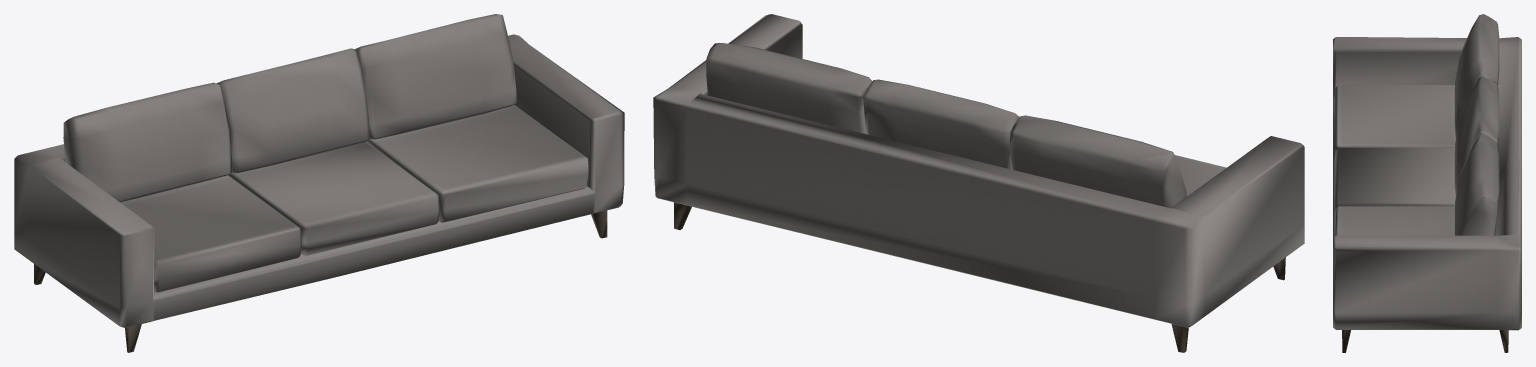
The model's file is sofa_modern.fbx.
The picture shows the model from 3 angles, left to right: view 1: azimuth 30°, elevation 25°; view 2: azimuth 150°, elevation 25°; view 3: azimuth 270°, elevation 25°; orthographic projection. The views are drawn at different scales.
Visible parts, largest first — view 1: Mesh_0; view 2: Mesh_0; view 3: Mesh_0.
Part boxes in pixels (x1,y1,x2,y2): Mesh_0: (14, 14, 624, 352); Mesh_0: (653, 14, 1304, 352); Mesh_0: (1333, 14, 1521, 352).
Bounding box in the file's own units: 95.75 × 31.3 × 35.79.
Materials: 1 (1 with a texture image).
